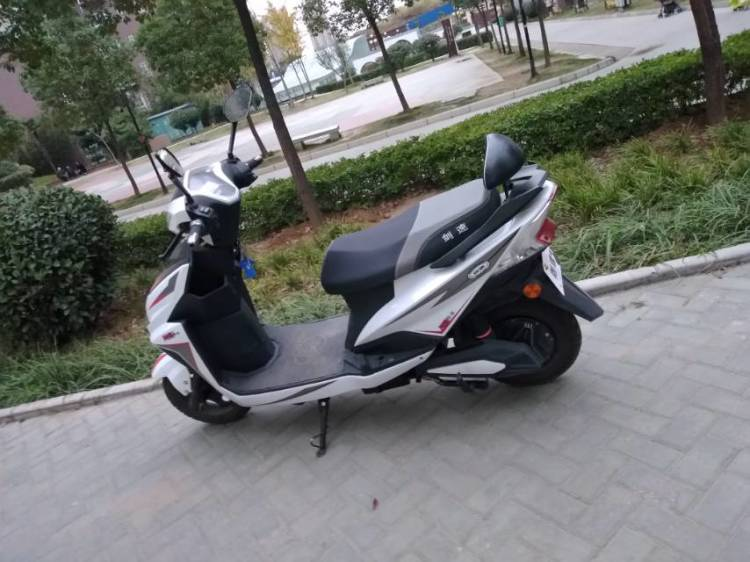电动车: (119, 77, 612, 466)
